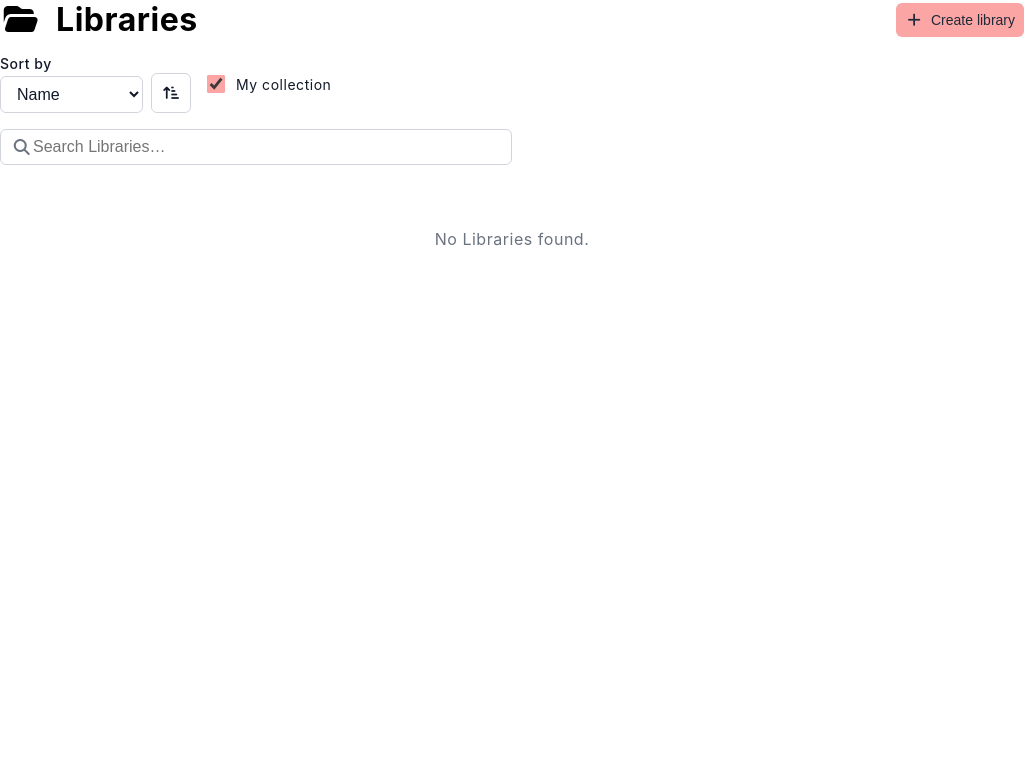
it: LibraryView › creates a library and refreshes the list
Click the button "Create library" at (960, 20), box [896,2,1023,36]
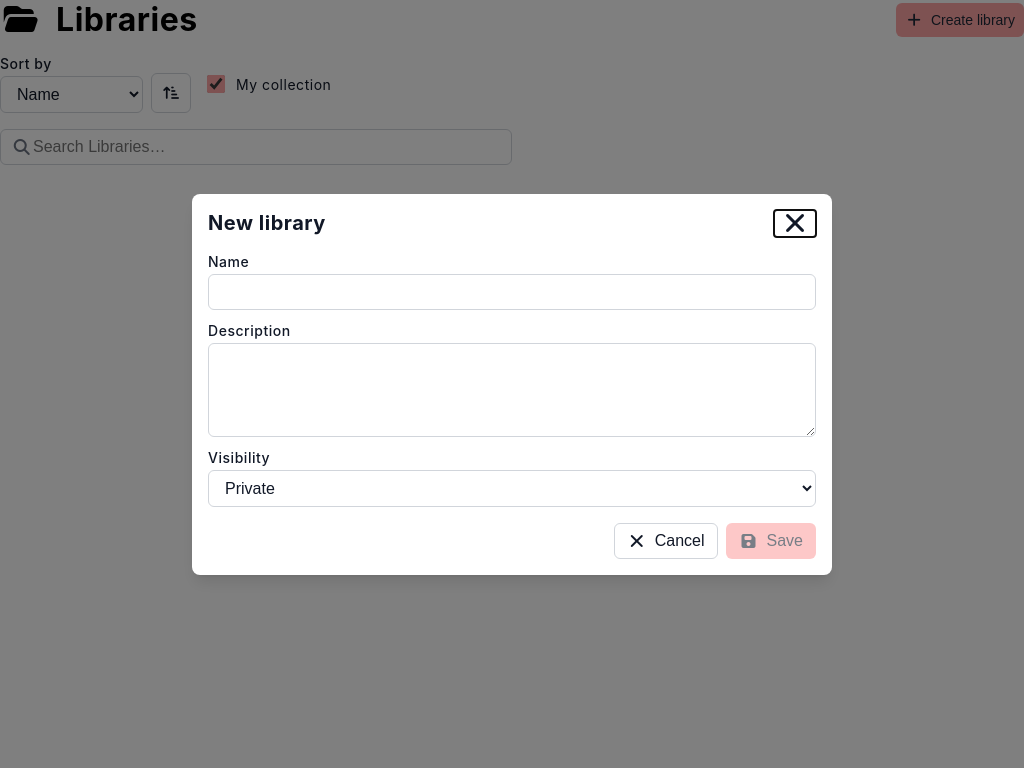
Type "Main Library" into the field labelled "Name" at (512, 292), box [208,274,816,310]
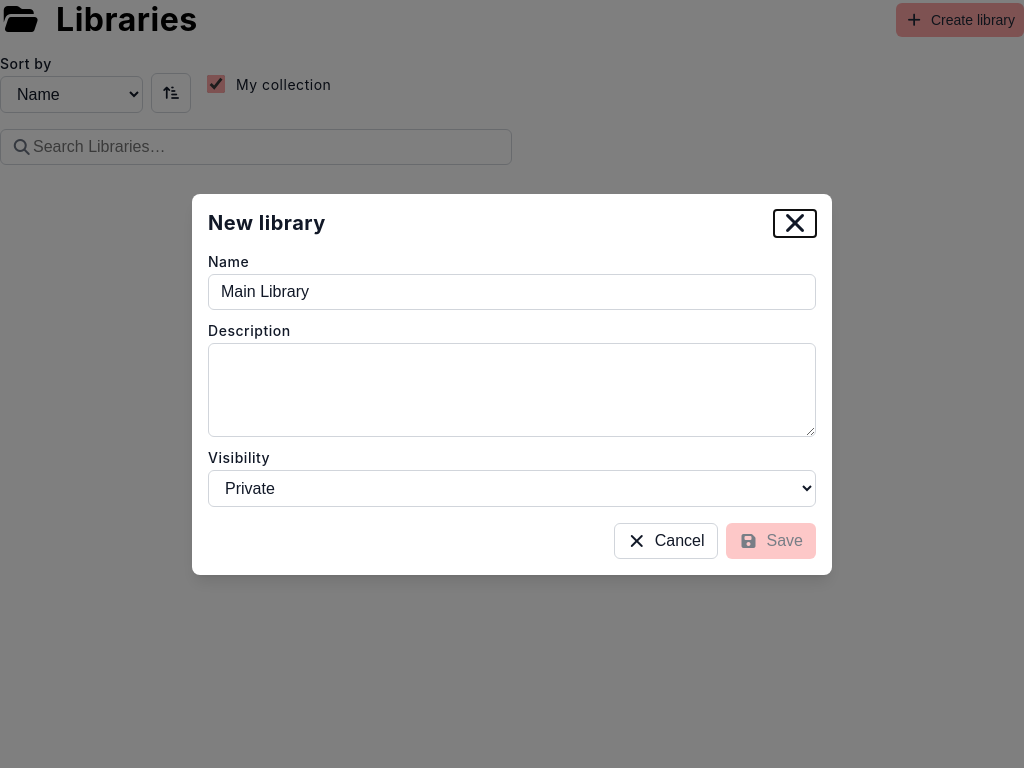
Type "My personal collection." into the text box labelled "Description" at (512, 390), box [208,342,816,436]
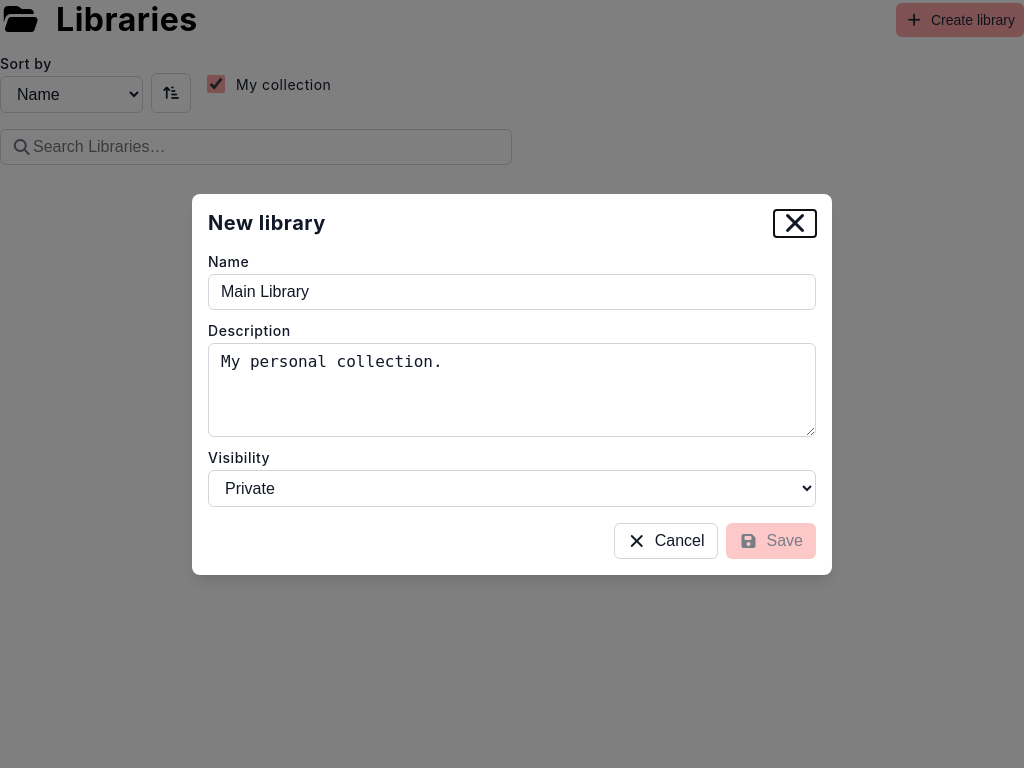
Select "Private" in the dropdown labelled "Visibility" at (512, 488), box [208,470,816,506]
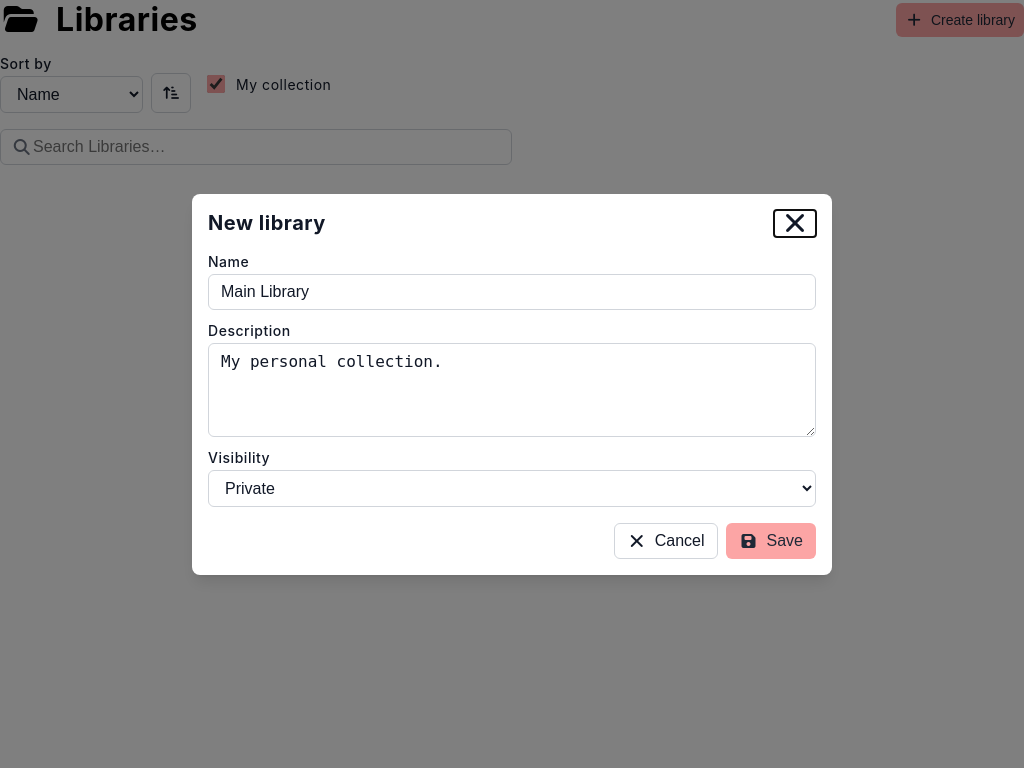
expect the button "Save" is shown: met
Click the button "Save" at (771, 540), box [726,522,816,558]
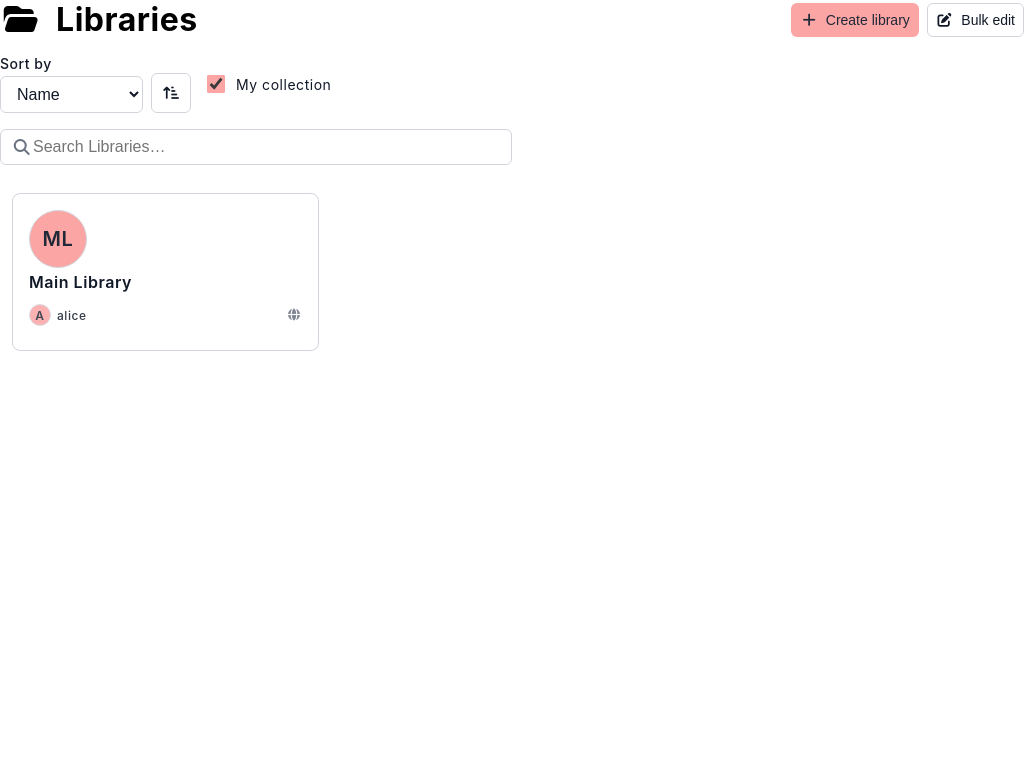
expect the form with id "create-library-form" is gone: met
